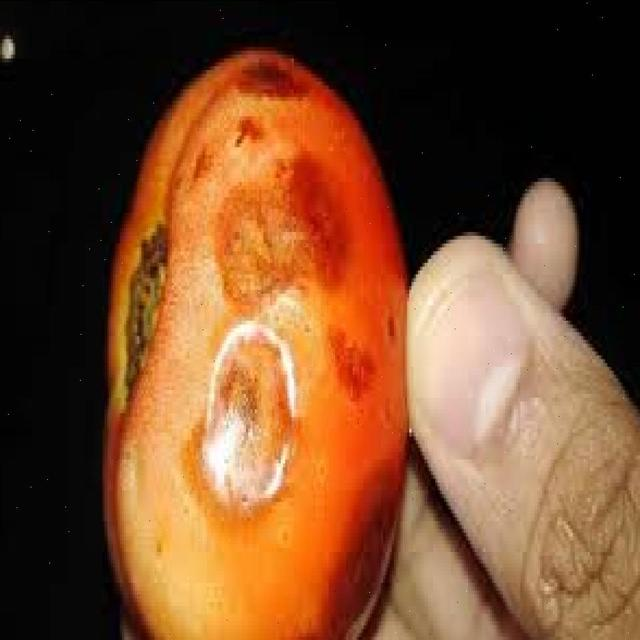Spotted wilt Virus Fruit: (99, 242, 359, 612)
